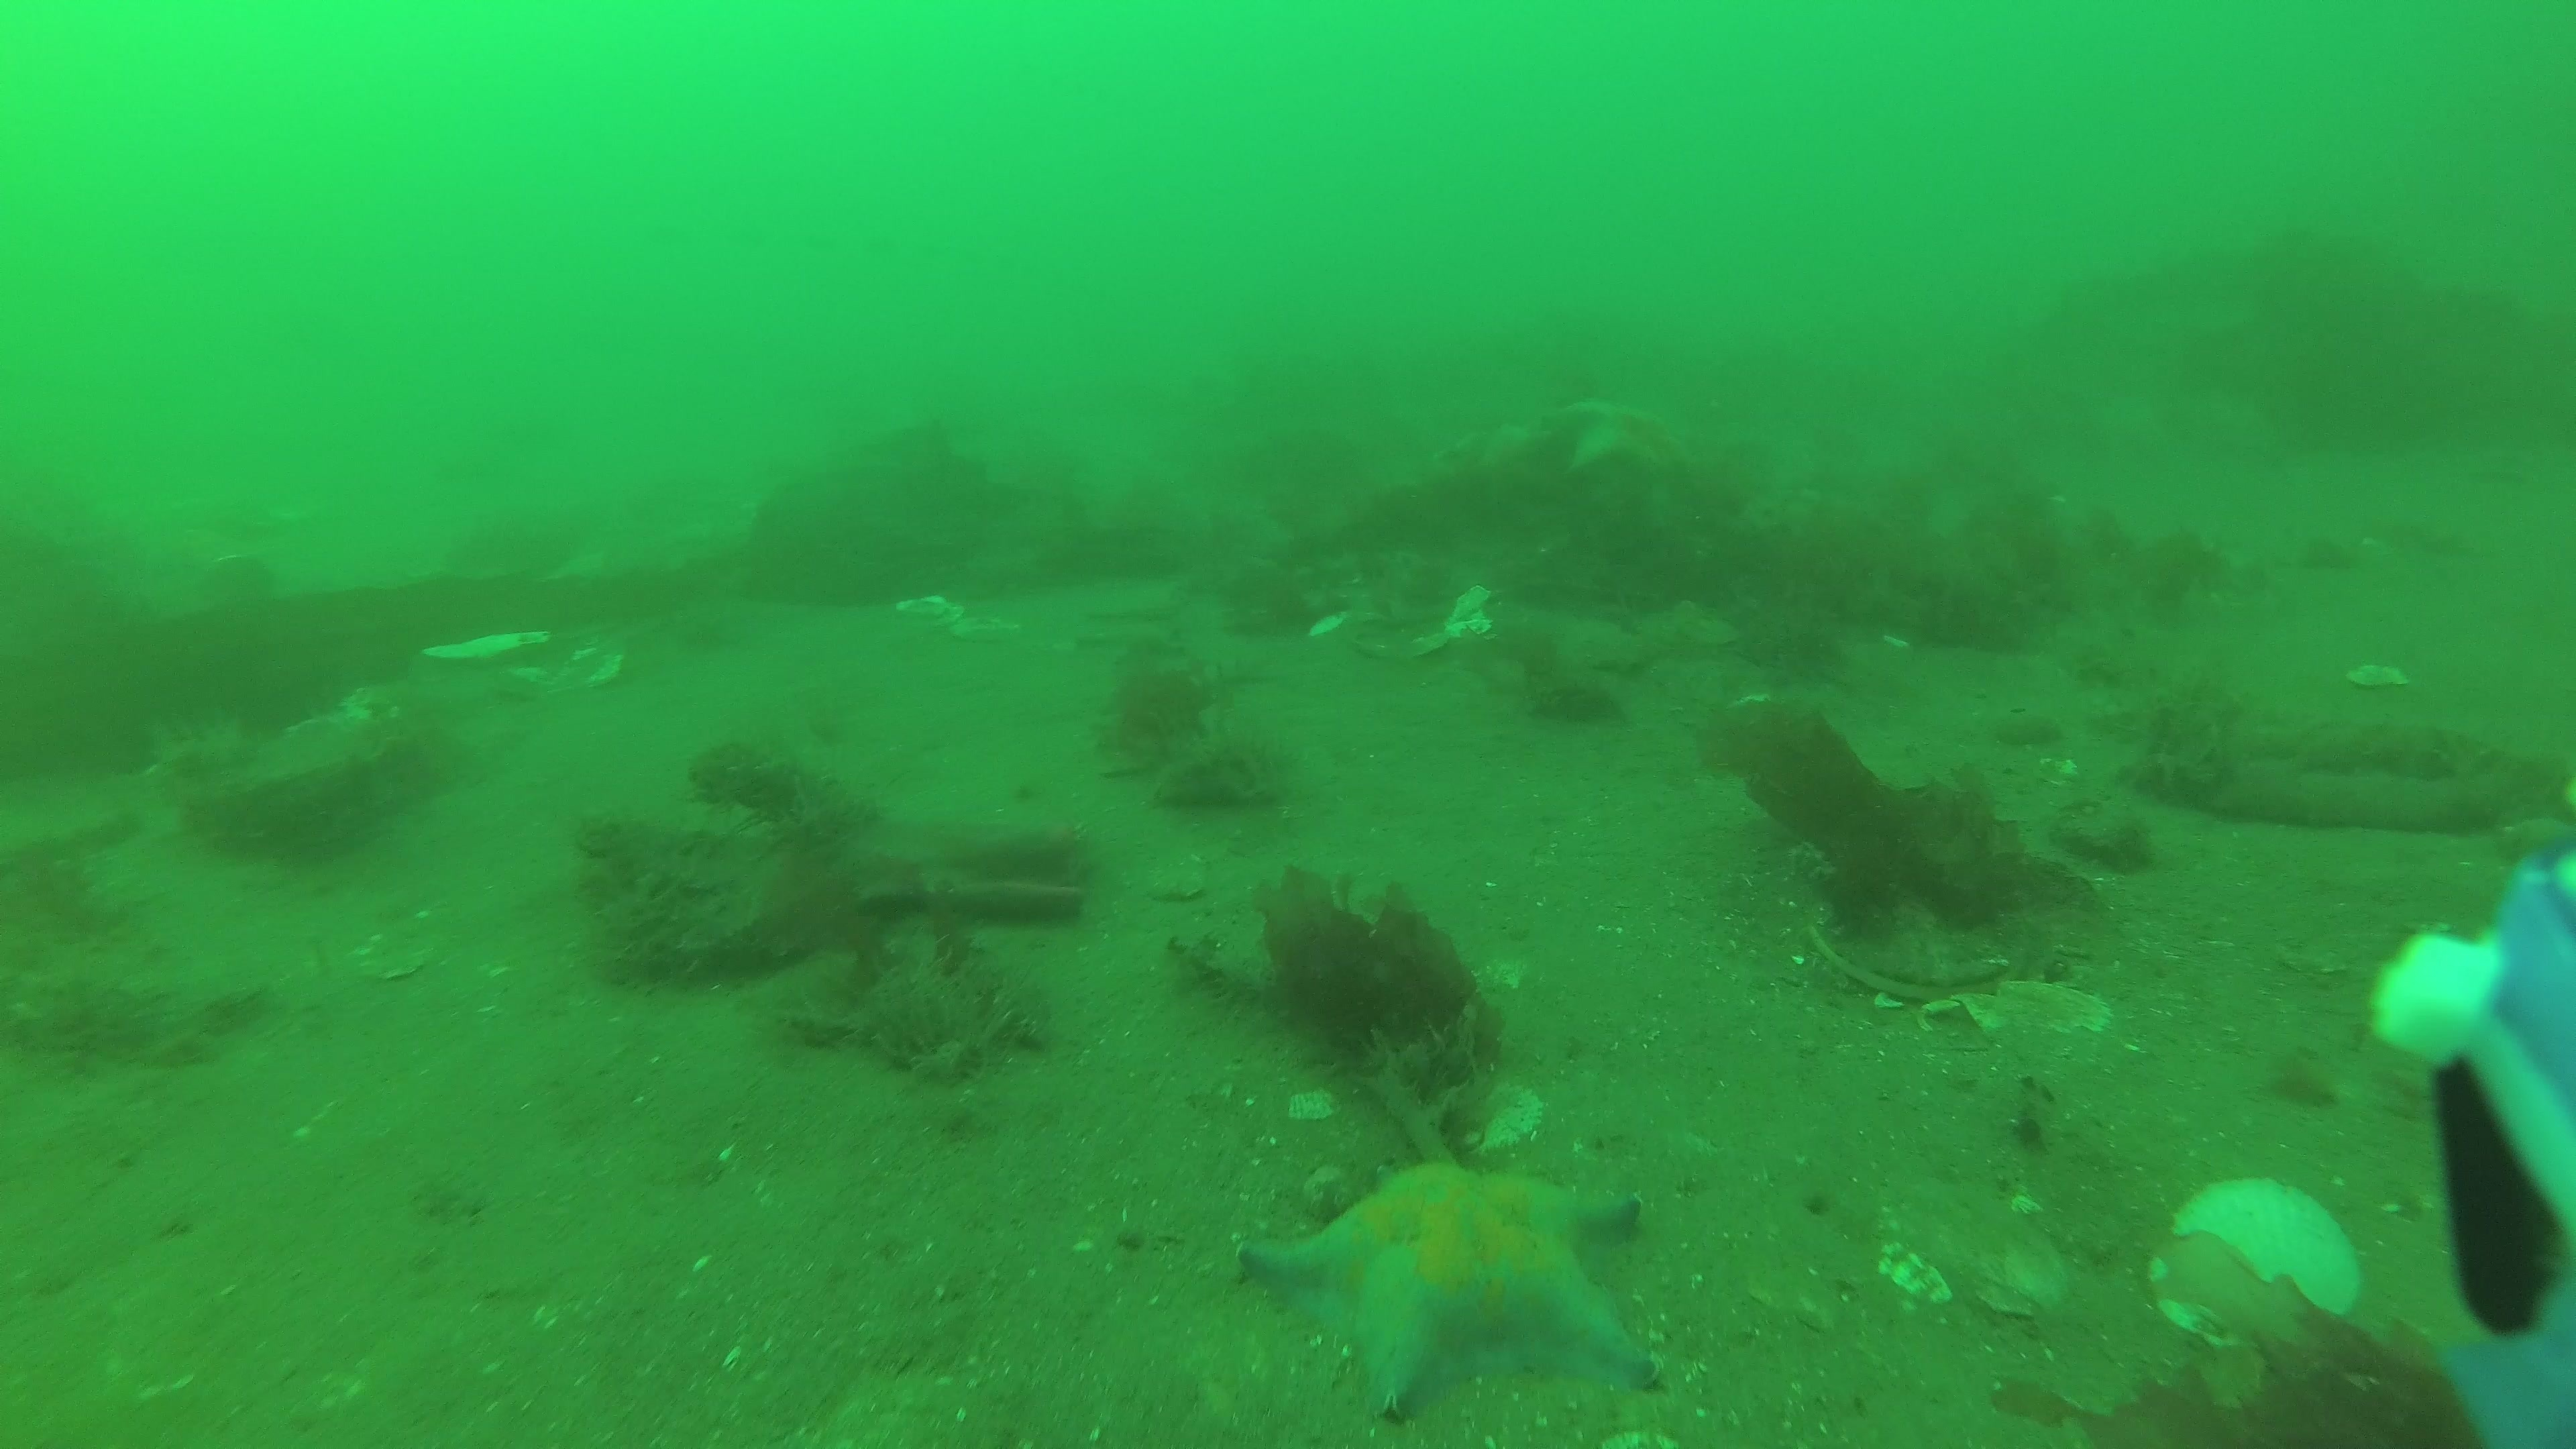starfish: (1228, 1152, 1672, 1428), (1550, 382, 1711, 534)
